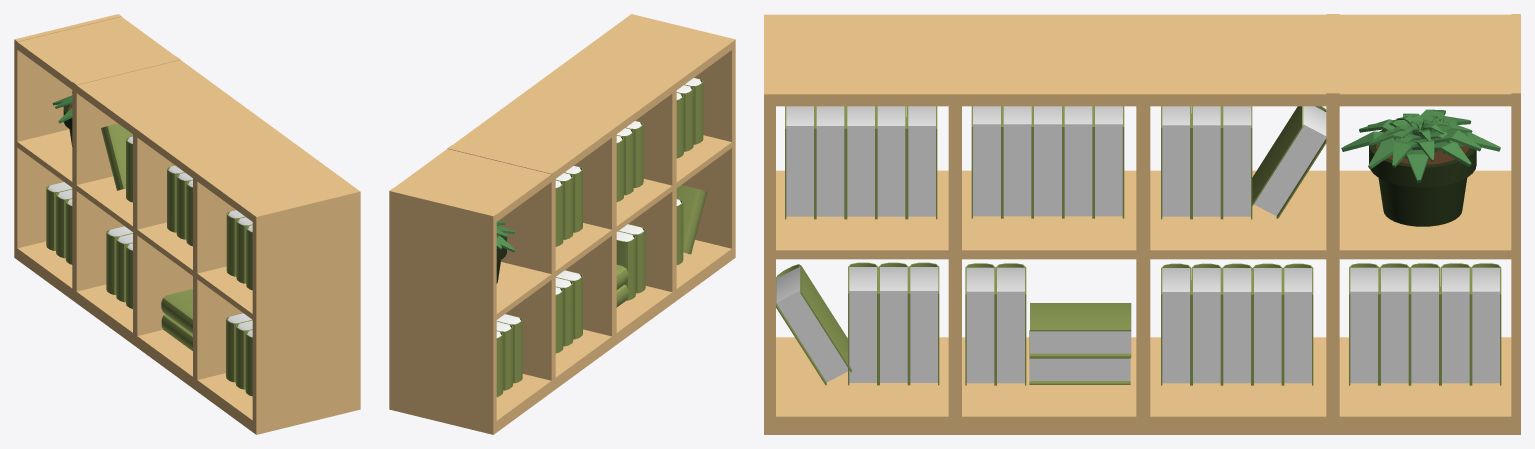
The picture shows the model from 3 angles, left to right: view 1: azimuth 30°, elevation 25°; view 2: azimuth 150°, elevation 25°; view 3: azimuth 270°, elevation 25°; orthographic projection. The views are drawn at different scales.
Visible parts, largest first — view 1: shelf2-nature; view 2: shelf2-nature; view 3: shelf2-nature.
Boxes of the visible parts, x1=… form: shelf2-nature: x1=14, y1=14, x2=360, y2=434; shelf2-nature: x1=389, y1=14, x2=735, y2=434; shelf2-nature: x1=764, y1=14, x2=1520, y2=434.
Bounding box in the file's own units: 42.56 × 85.28 × 171.
